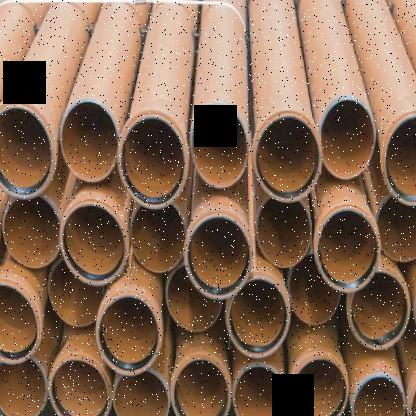pipe: (118, 112, 188, 210), (256, 115, 322, 203), (184, 216, 251, 300), (316, 208, 380, 293), (96, 293, 160, 377), (60, 204, 126, 285), (226, 277, 290, 358), (0, 107, 53, 201), (191, 104, 249, 189), (59, 99, 118, 182), (350, 270, 410, 351), (319, 98, 376, 181), (255, 194, 312, 268), (3, 196, 61, 267), (166, 264, 222, 333), (130, 206, 186, 274), (288, 254, 340, 326), (48, 260, 104, 326), (48, 358, 110, 416), (172, 356, 231, 416), (289, 358, 348, 416), (0, 282, 39, 364), (383, 114, 416, 207), (374, 193, 416, 264), (232, 362, 286, 416), (0, 356, 48, 415), (113, 370, 169, 416), (352, 375, 407, 416), (406, 371, 416, 416), (413, 280, 416, 344)
